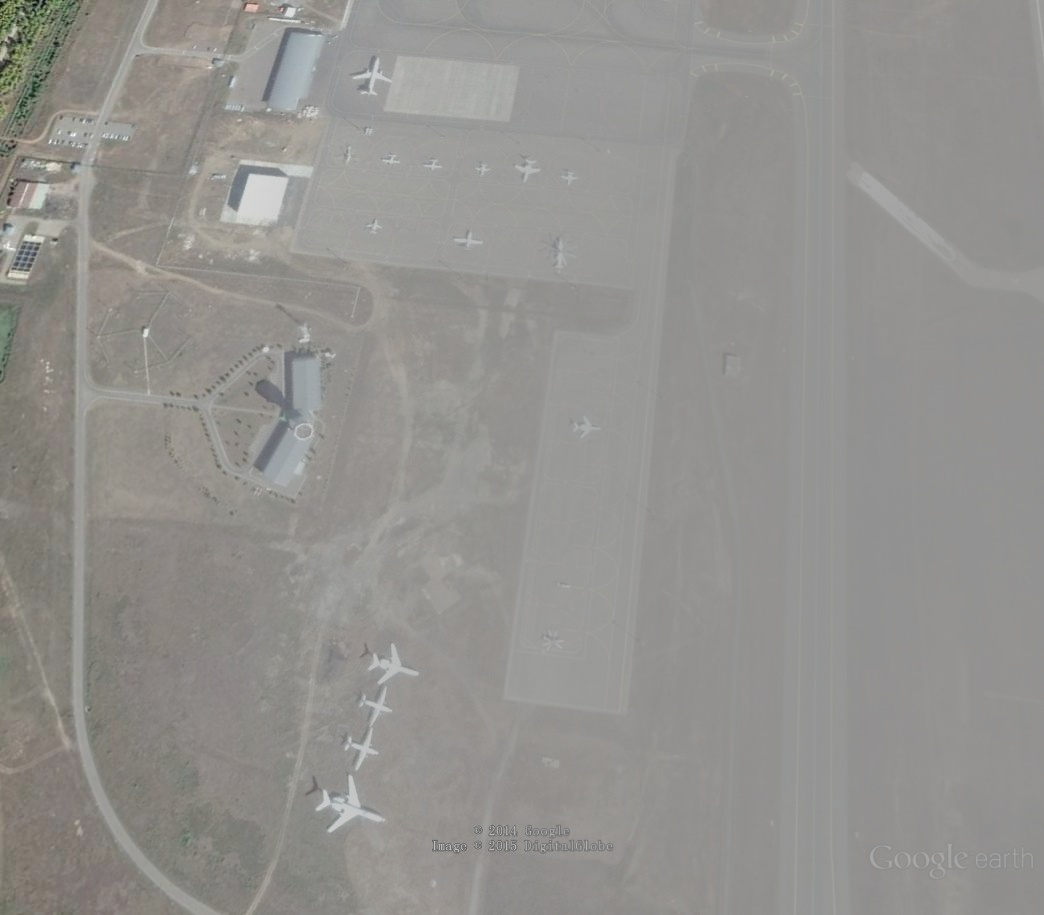aircraft: (314, 771, 390, 835), (365, 641, 424, 686), (350, 56, 397, 98), (355, 684, 397, 731), (342, 727, 383, 774), (546, 236, 578, 276), (569, 414, 606, 442), (539, 626, 569, 658), (510, 158, 545, 185), (451, 229, 486, 252), (423, 157, 448, 175), (366, 217, 388, 236), (558, 171, 582, 188), (379, 151, 404, 167), (474, 161, 492, 179)
